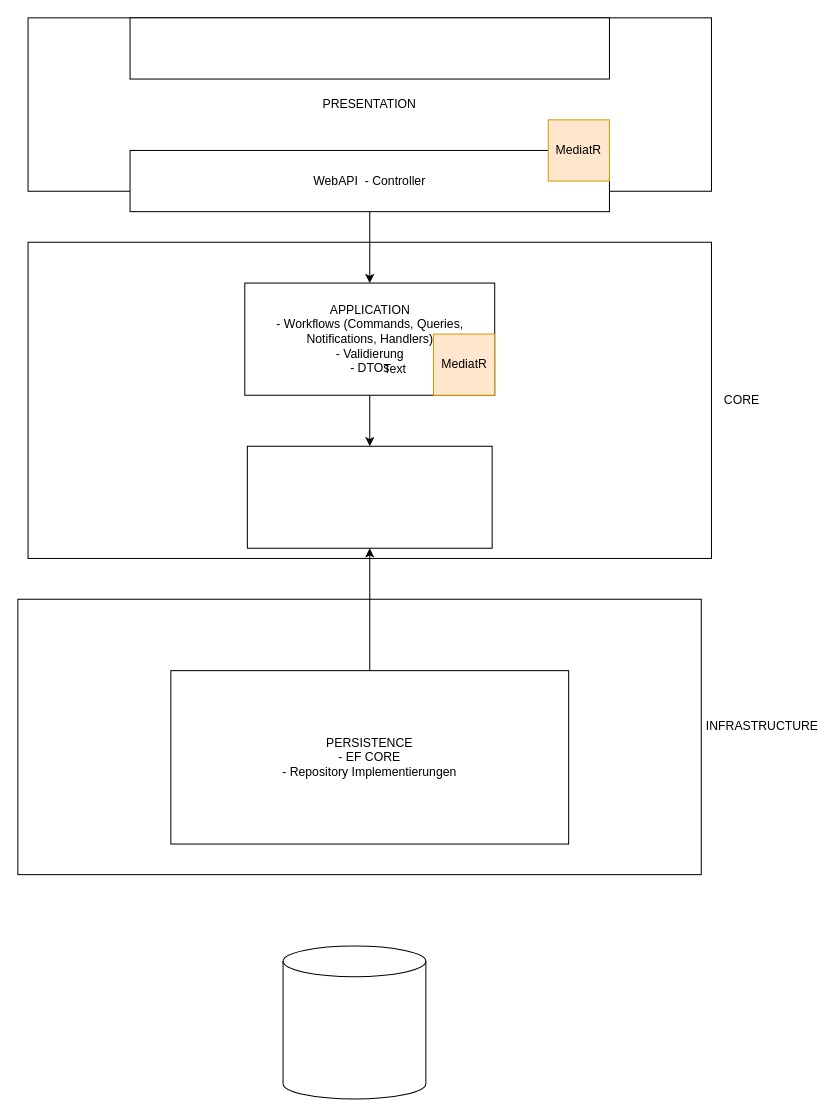
The diagram is 836 pixels wide and 1117 high, and some of its shapes have lost their labels. Here are the shapes that lost their labels. From the top down, the centre of each, then its label:
(x=369, y=48): UI
(x=369, y=496): DOMAIN - Entities - Exceptions -Repositories (Interfaces)
(x=354, y=1022): DB
